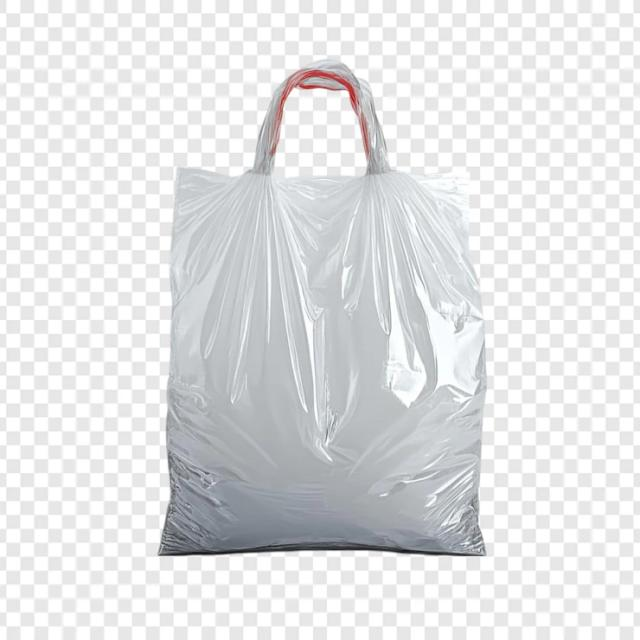plastic_bag: (163, 77, 490, 596)
